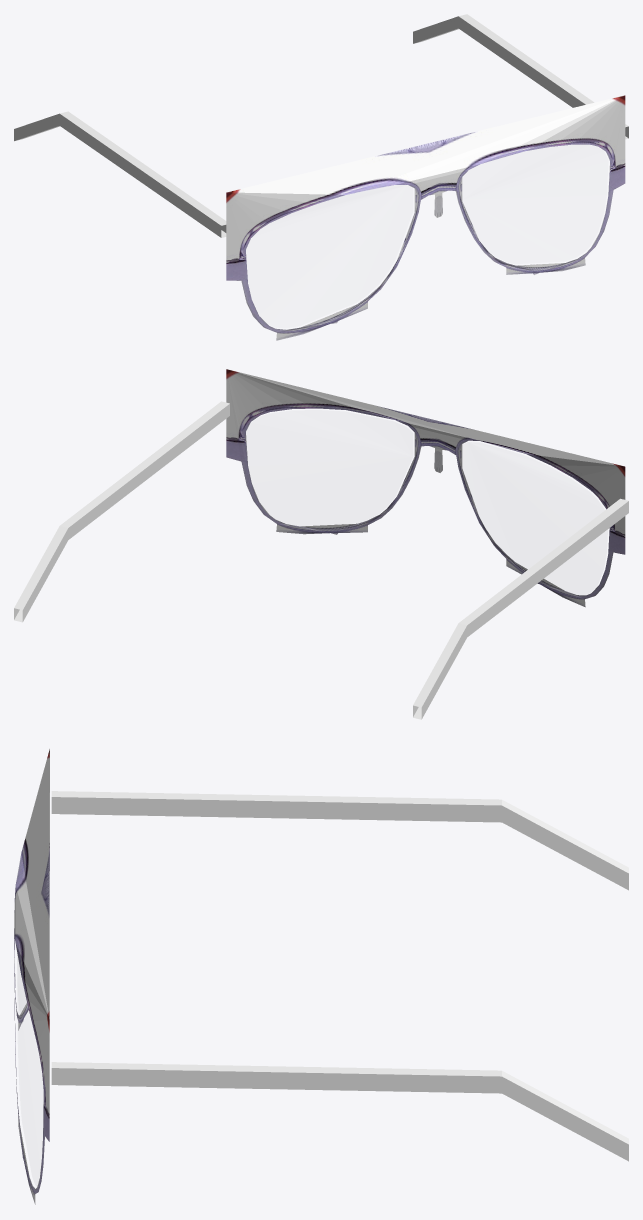
The model's file is gothamstyle-stainless-27_shiny-purple.glb.
The picture shows the model from 3 angles, top to bottom: view 1: azimuth 30°, elevation 25°; view 2: azimuth 150°, elevation 25°; view 3: azimuth 270°, elevation 25°; orthographic projection. The views are drawn at different scales.
Parts seen in each view (by area): view 1: frame_front, temple_viewer_left, temple_viewer_right; view 2: frame_front, temple_viewer_left, temple_viewer_right; view 3: temple_viewer_left, temple_viewer_right, frame_front.
Part boxes in pixels (x1,y1,x2,y2): frame_front: (226, 95, 625, 340); temple_viewer_left: (14, 111, 226, 237); temple_viewer_right: (413, 14, 628, 139); frame_front: (226, 369, 625, 607); temple_viewer_left: (413, 498, 628, 719); temple_viewer_right: (14, 401, 229, 622); temple_viewer_left: (51, 791, 628, 890); temple_viewer_right: (51, 1062, 628, 1161); frame_front: (14, 749, 49, 1204).
Size of the model in its own units: 0.1396 by 0.0509 by 0.131.
3 materials, 2 textured.
